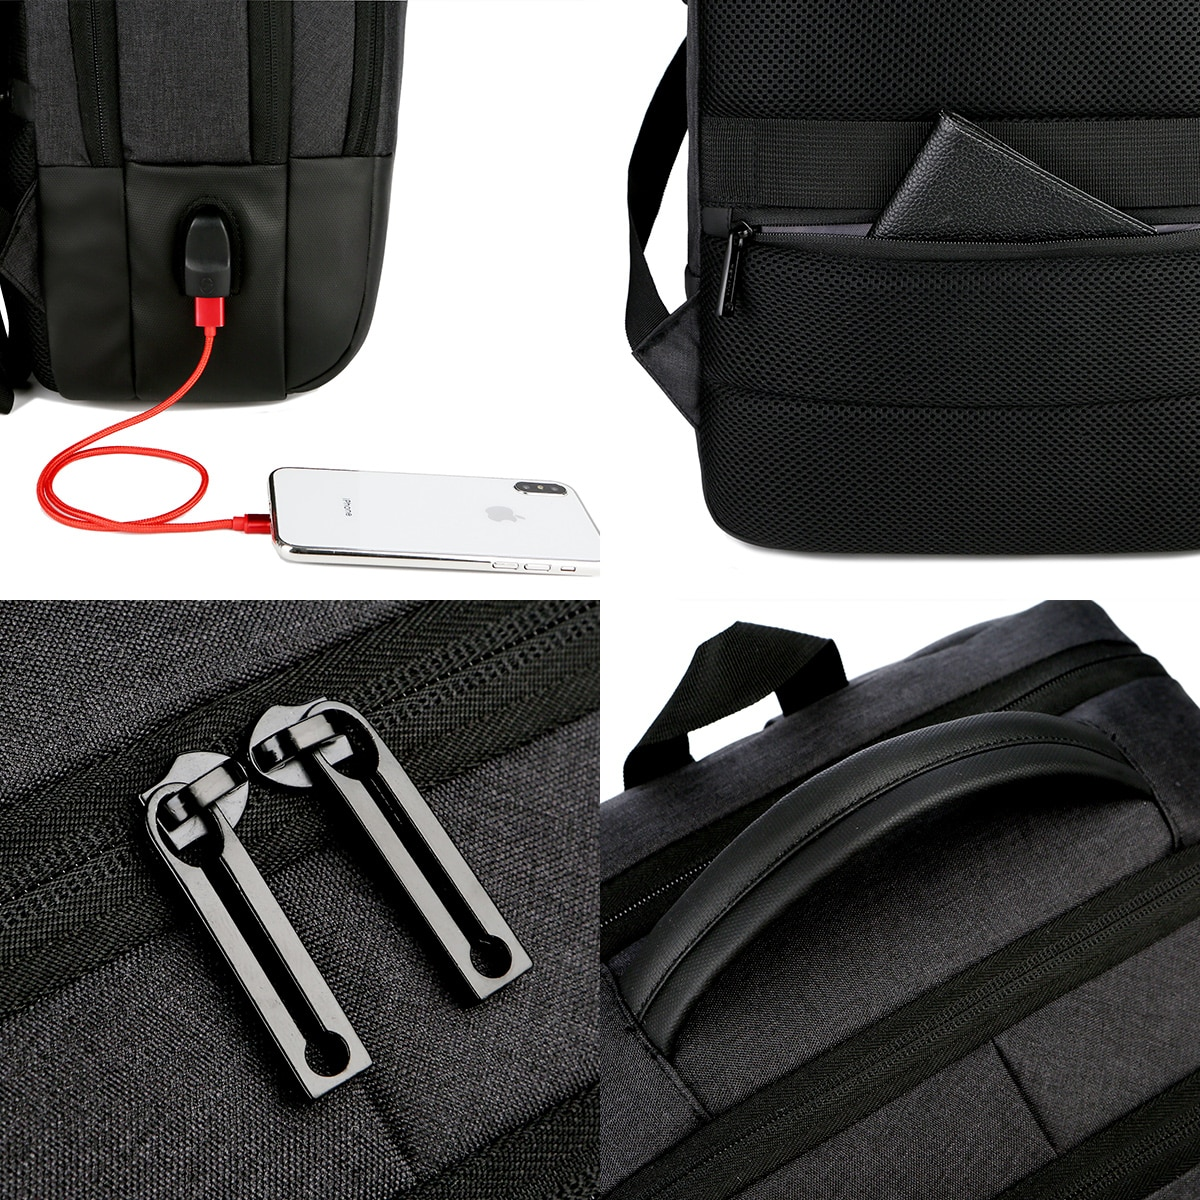Men's Backpacks: (604, 601, 1200, 1200), (631, 1, 1200, 567), (4, 1, 413, 408)
Mobiles&Acc|Mobile Phone: (262, 465, 609, 579)
